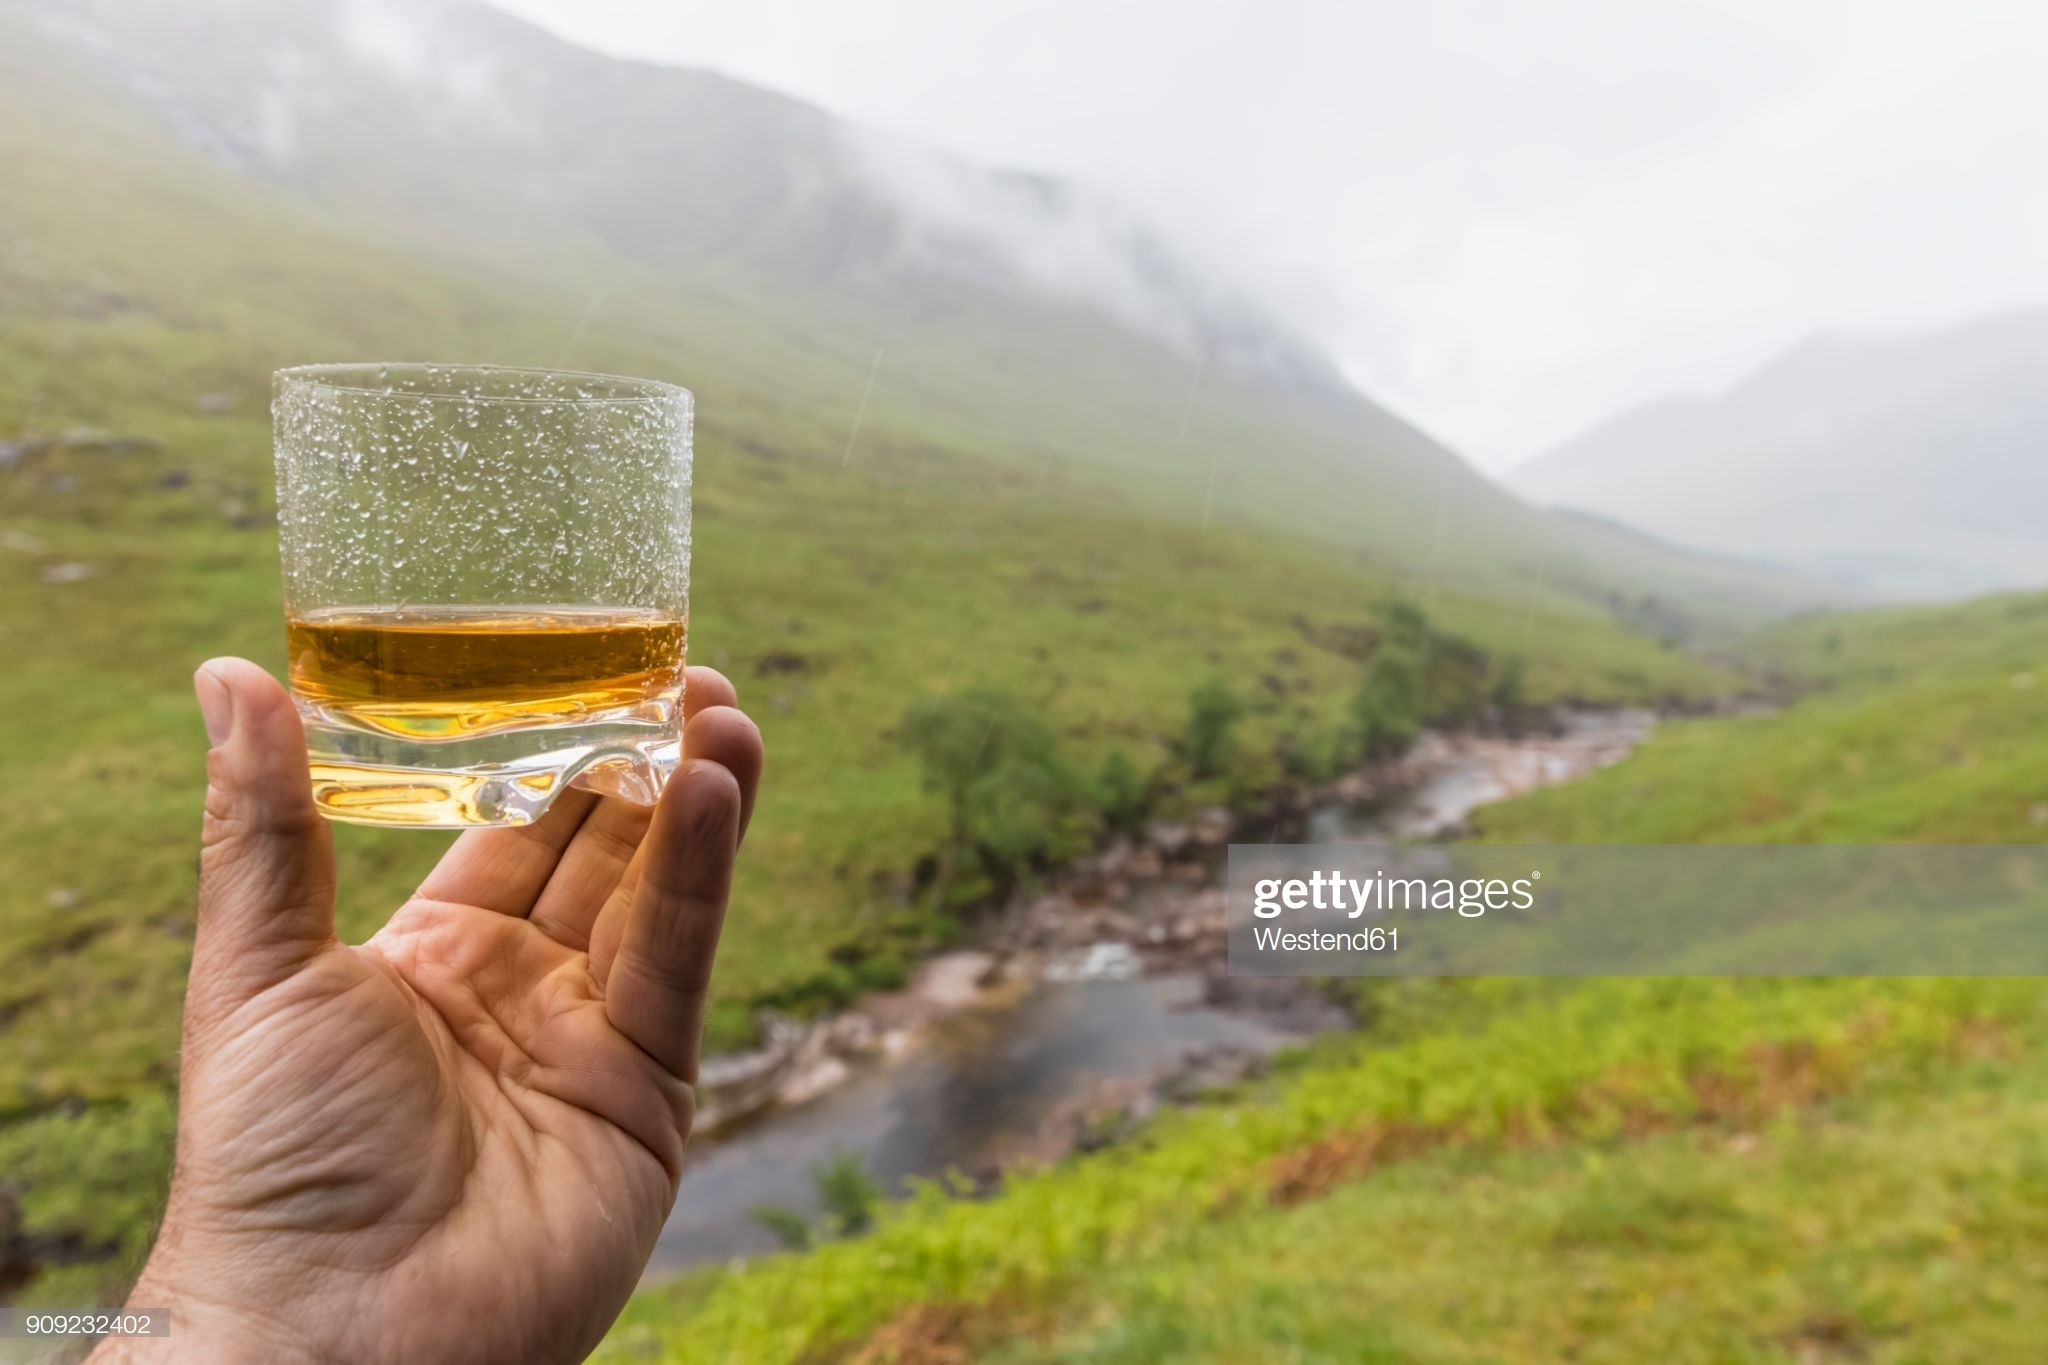whiskey: (271, 372, 716, 824)
